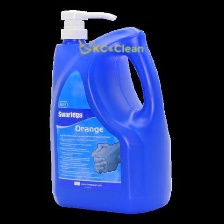cleaning_solution: (47, 6, 174, 218)
